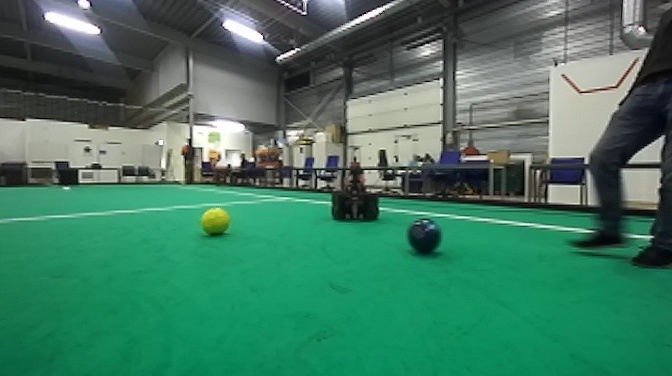ball: (403, 215, 447, 256), (198, 204, 233, 241)
robot: (328, 141, 384, 225)
